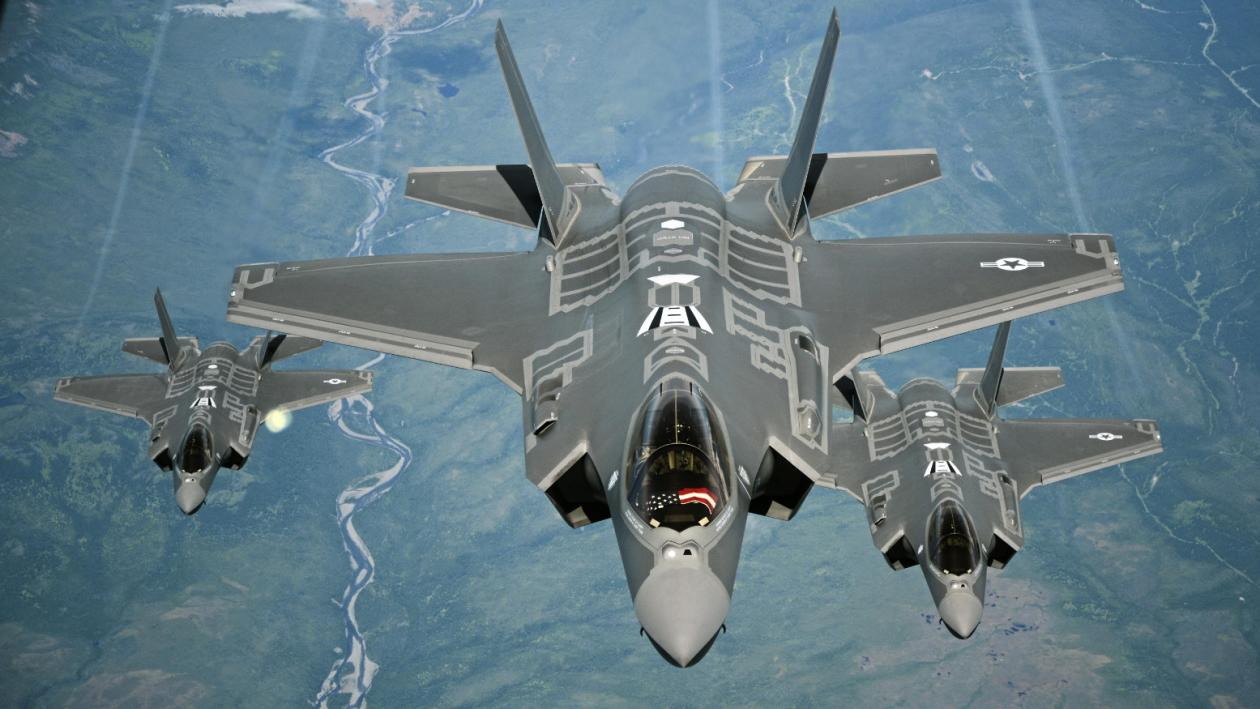F-35 Lightning: (221, 9, 1169, 672), (818, 371, 1161, 649), (59, 264, 393, 545)
